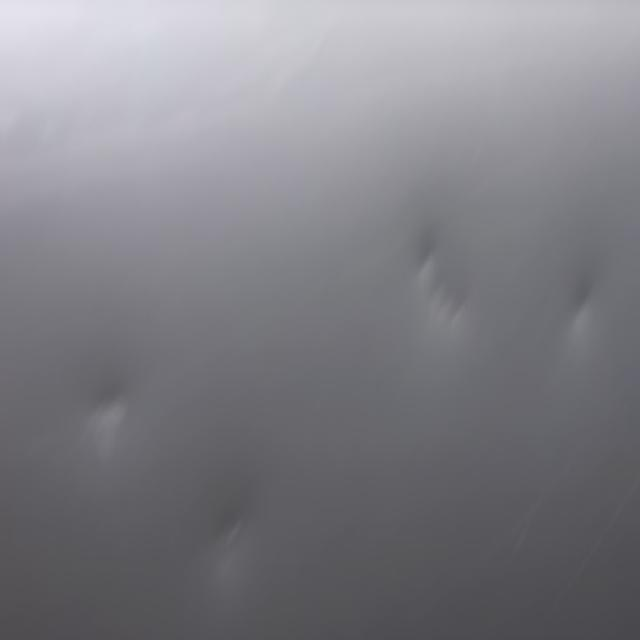dent: (403, 190, 489, 340), (539, 276, 619, 367), (69, 382, 124, 439), (223, 490, 257, 571)
